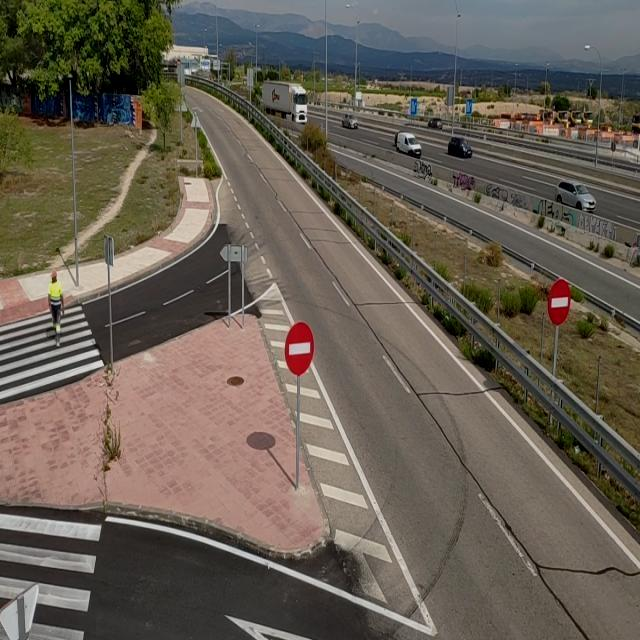Car: (556, 178, 598, 214), (448, 136, 474, 159), (342, 113, 359, 129)
Truck: (261, 80, 307, 122)
Van: (397, 131, 422, 158)
